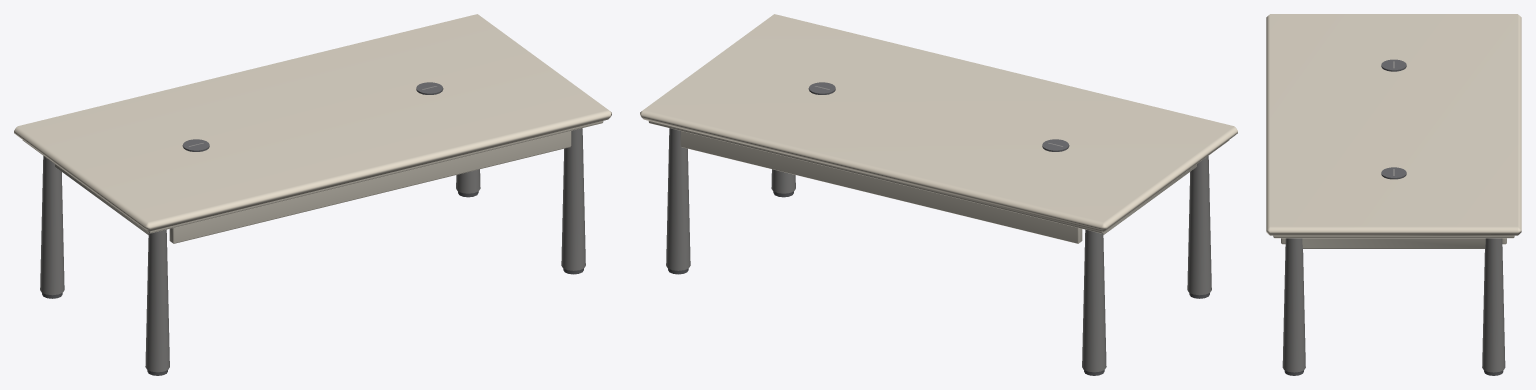
Rendered from table.glb.
The picture shows the model from 3 angles, left to right: view 1: azimuth 30°, elevation 25°; view 2: azimuth 150°, elevation 25°; view 3: azimuth 270°, elevation 25°; orthographic projection. The views are drawn at different scales.
Parts seen in each view (by area): view 1: furn_table; view 2: furn_table; view 3: furn_table.
Part boxes in pixels (x1,y1,x2,y2): furn_table: (14, 14, 611, 375); furn_table: (640, 14, 1237, 375); furn_table: (1266, 14, 1521, 375).
Size of the model in its own units: 2.2 by 0.7475 by 1.1.
